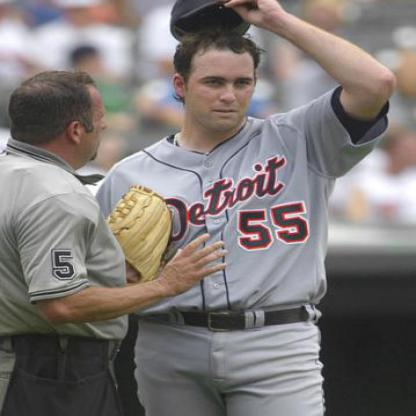face: (186, 39, 256, 133)
